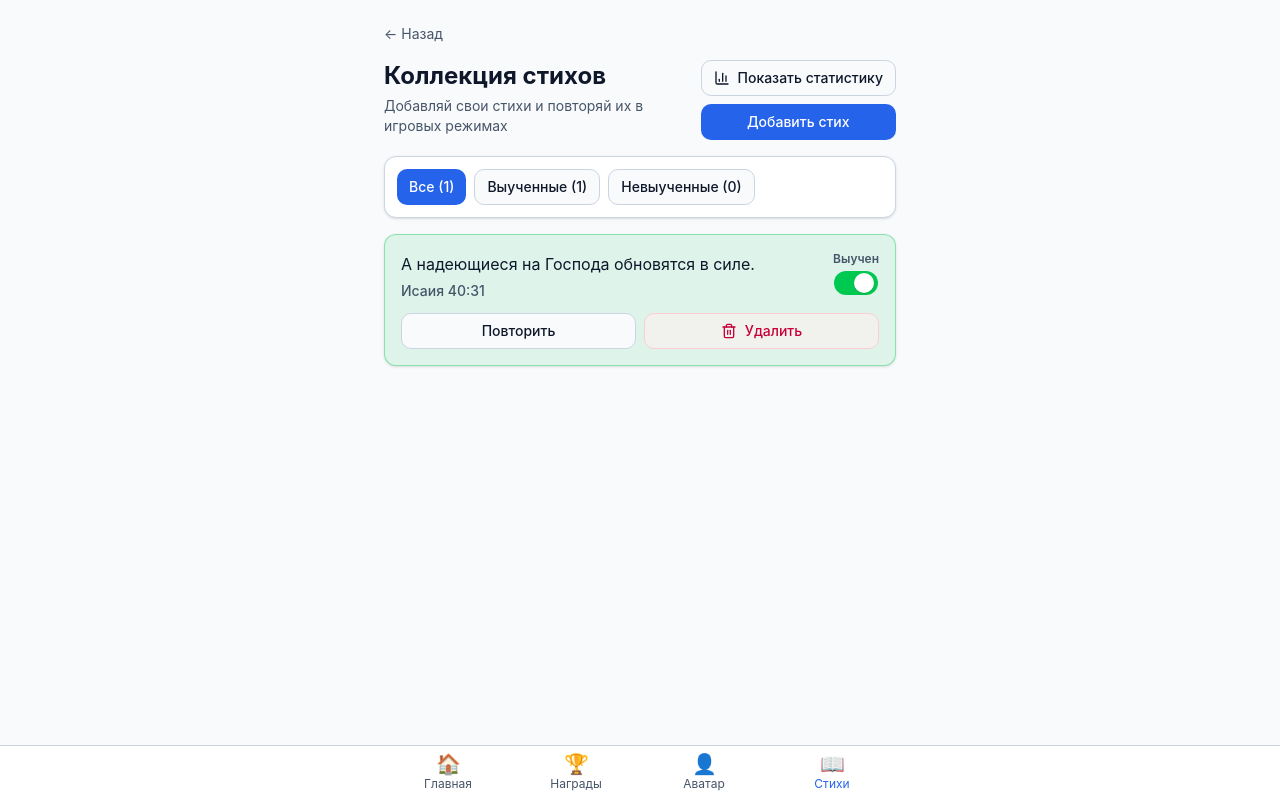
CollectionPage (integration) › deletes a custom verse from the collection with its progress data
expect the text "А надеющиеся на Господа обновятся в силе." is shown: met, box [401,254,755,274]
Click the button "Удалить" at (762, 331), box [644,313,879,349]
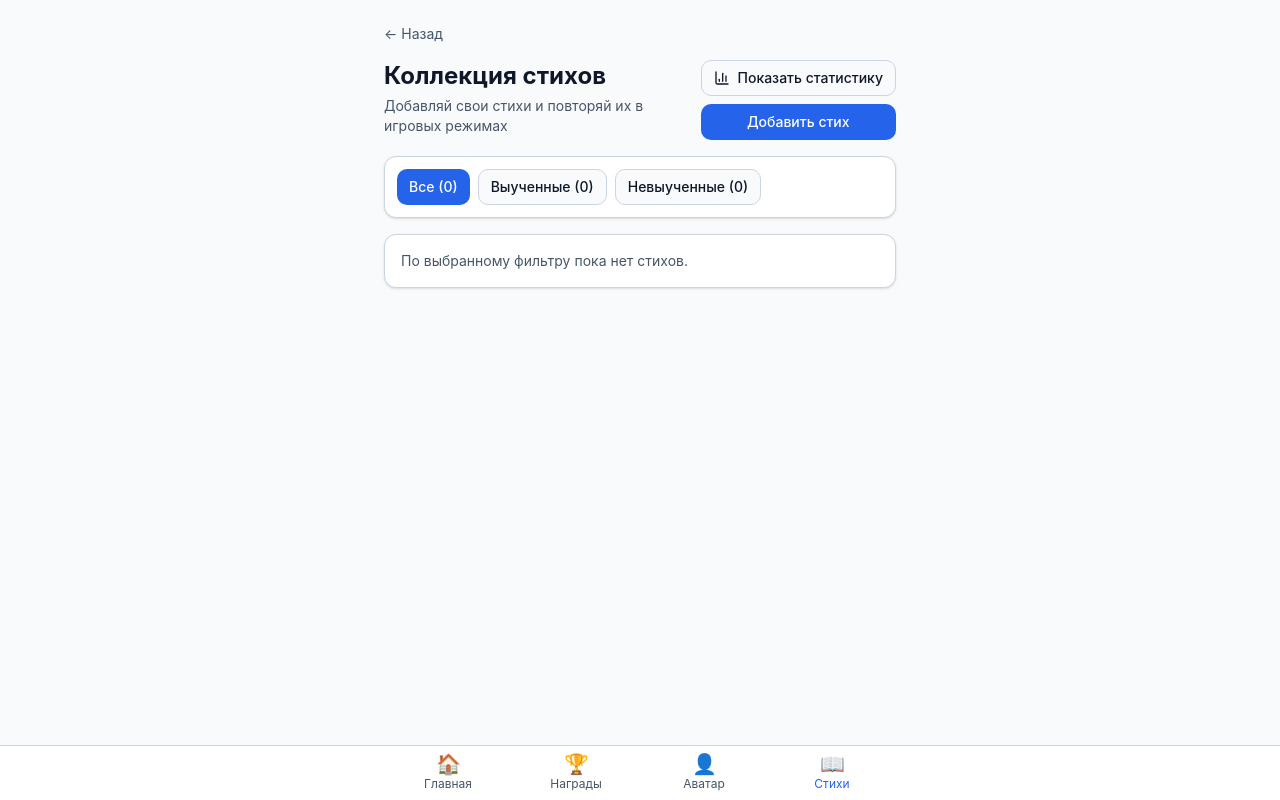
expect the text "А надеющиеся на Господа обновятся в силе." is gone: met
expect the button "Все (0)" is shown: met, box [397,169,470,205]
